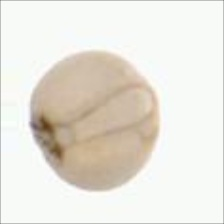L5: (59, 81, 162, 145), (28, 114, 68, 172), (141, 74, 164, 132)
L6: (27, 47, 164, 194)
